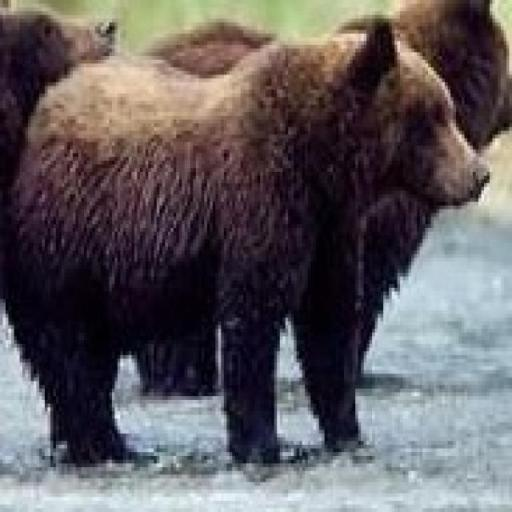Bear: (0, 0, 507, 467)
